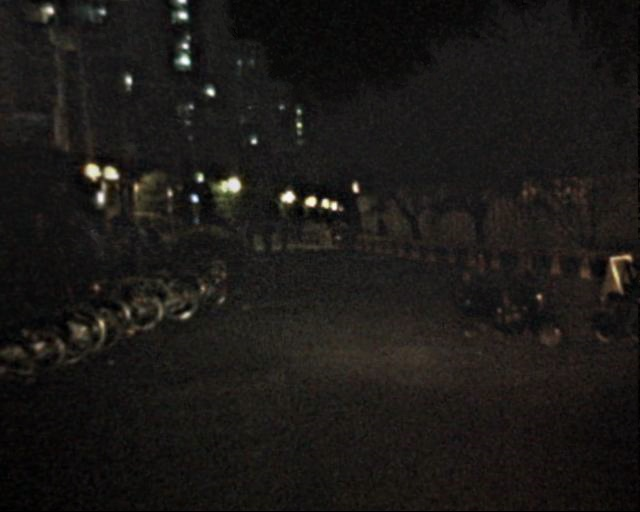person: (85, 224, 105, 273), (125, 221, 143, 265), (147, 226, 165, 269), (224, 216, 240, 256), (256, 222, 272, 262), (240, 216, 256, 255), (376, 219, 392, 258), (272, 218, 288, 256), (287, 220, 305, 246)
